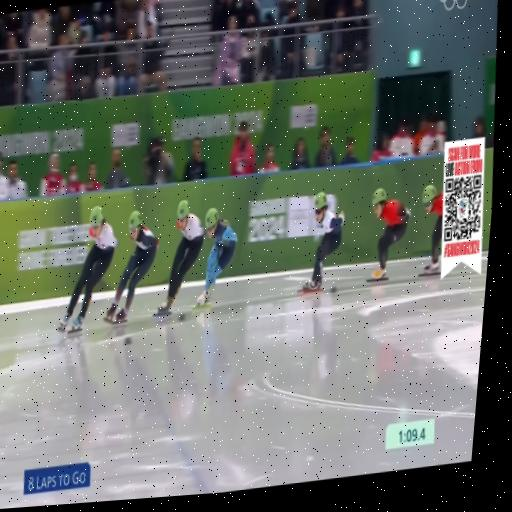Skater: (60, 206, 118, 330), (106, 211, 158, 323), (158, 200, 206, 315), (300, 192, 345, 293), (197, 208, 237, 306), (370, 188, 410, 281), (423, 186, 443, 274)
